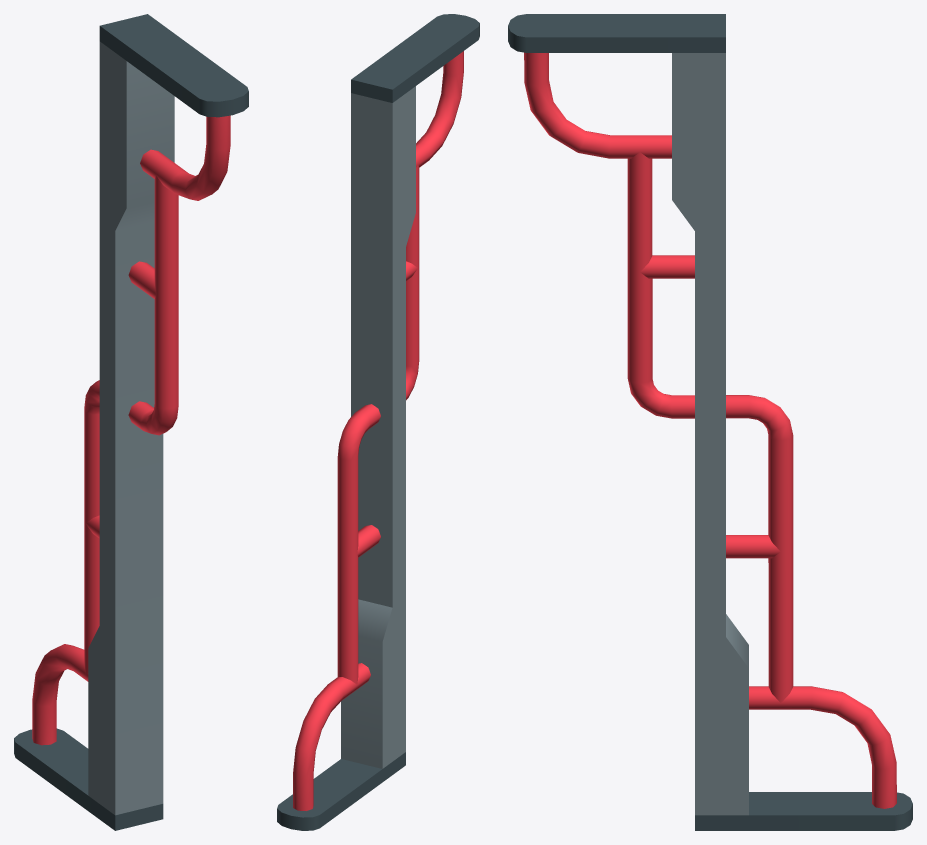
Rendered from Column_008.fbx.
3 views of the same model, side by side, from view 1: azimuth 30°, elevation 25°; view 2: azimuth 150°, elevation 25°; view 3: azimuth 270°, elevation 25° (orthographic). The views are drawn at different scales.
Visible parts, largest first — view 1: Column_008; view 2: Column_008; view 3: Column_008.
Part boxes in pixels (<box>): Column_008: <box>14,14,248,830</box>; Column_008: <box>277,14,479,830</box>; Column_008: <box>508,14,912,830</box>.
Size of the model in its own units: 24.06 by 176 by 380.
